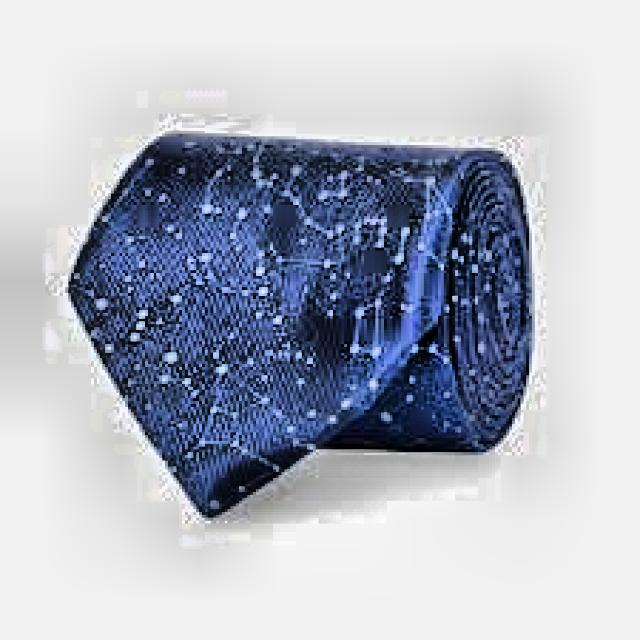Tie: (65, 128, 532, 518)
